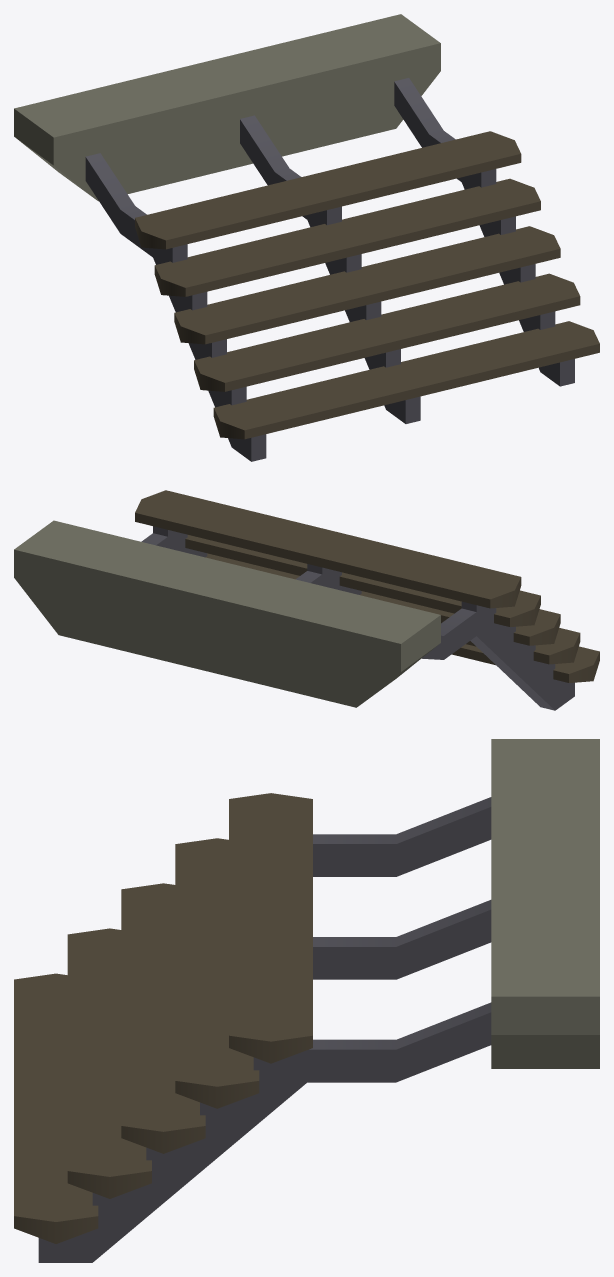
Rendered from LPSciFi_DoubleMetalStairsWithMount.fbx.
The picture shows the model from 3 angles, top to bottom: view 1: azimuth 30°, elevation 25°; view 2: azimuth 150°, elevation 25°; view 3: azimuth 270°, elevation 25°; orthographic projection. The views are drawn at different scales.
Parts seen in each view (by area): view 1: DoubleMetalStairsWithMount; view 2: DoubleMetalStairsWithMount; view 3: DoubleMetalStairsWithMount.
Boxes of the visible parts, <box> form: DoubleMetalStairsWithMount: <box>14,14,599,461</box>; DoubleMetalStairsWithMount: <box>14,490,599,710</box>; DoubleMetalStairsWithMount: <box>14,739,599,1262</box>.
Bounding box in the file's own units: 244 × 127 × 235.
